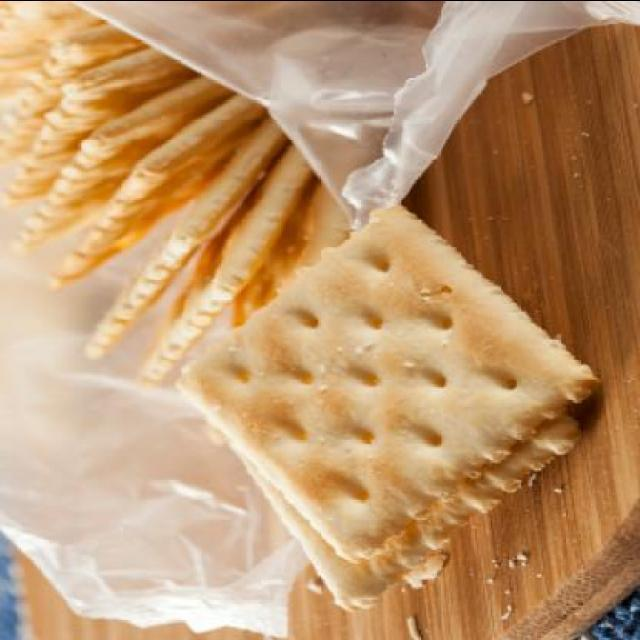Cracker packaged: (175, 198, 594, 540)
